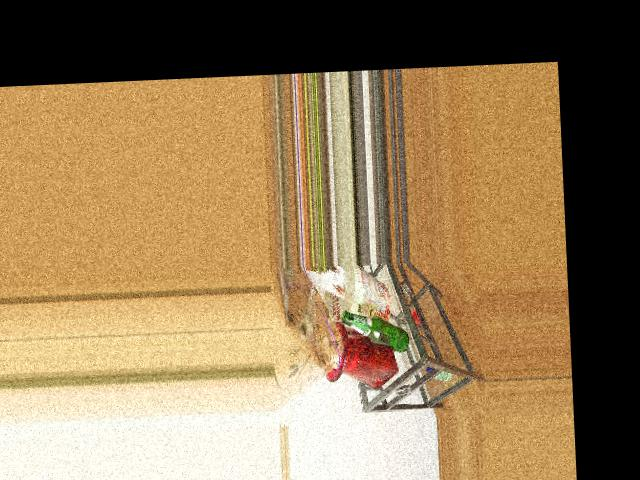beer: (341, 308, 410, 354)
